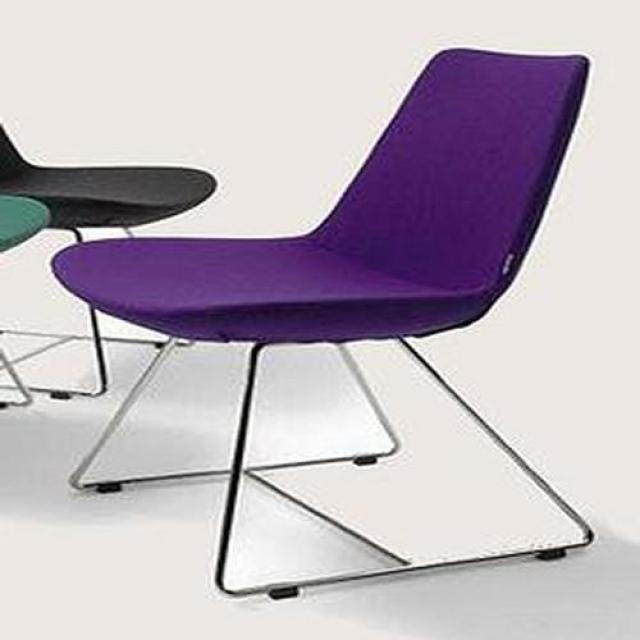chair: (50, 49, 595, 603)
